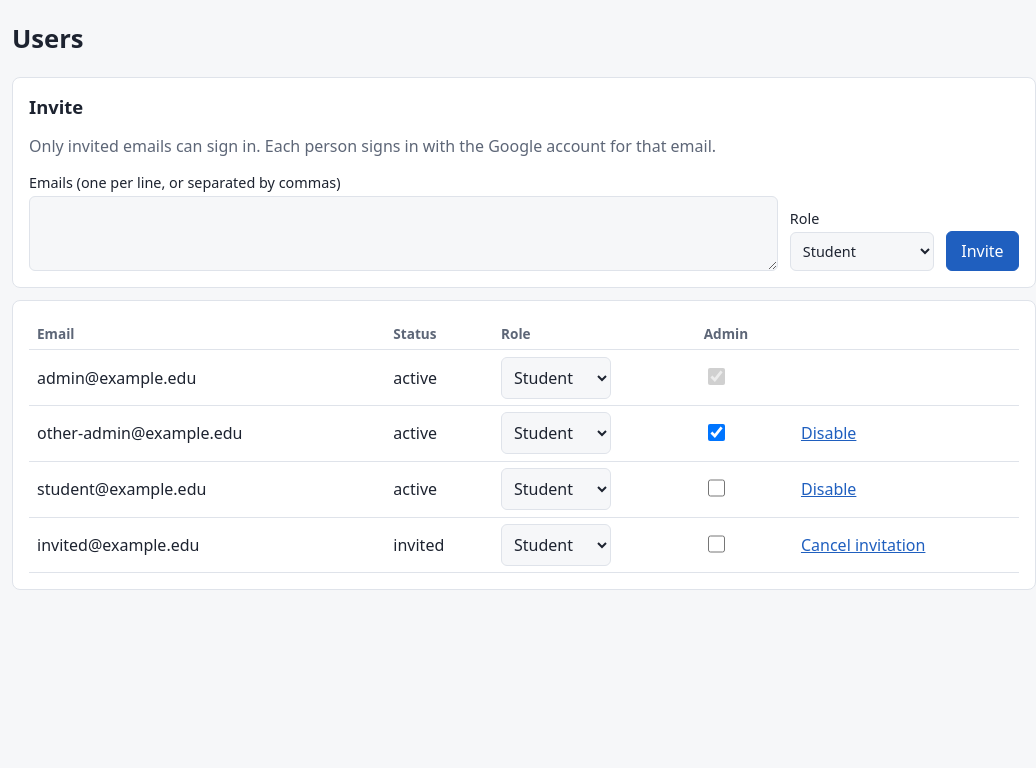
<AdminPage> › invites a pasted list of emails with the chosen role
Type "new@example.edu, student@example.edu" into the text box labelled "Emails (one per line, or separated by commas)" at (403, 234), box left=29, top=196, right=778, bottom=272
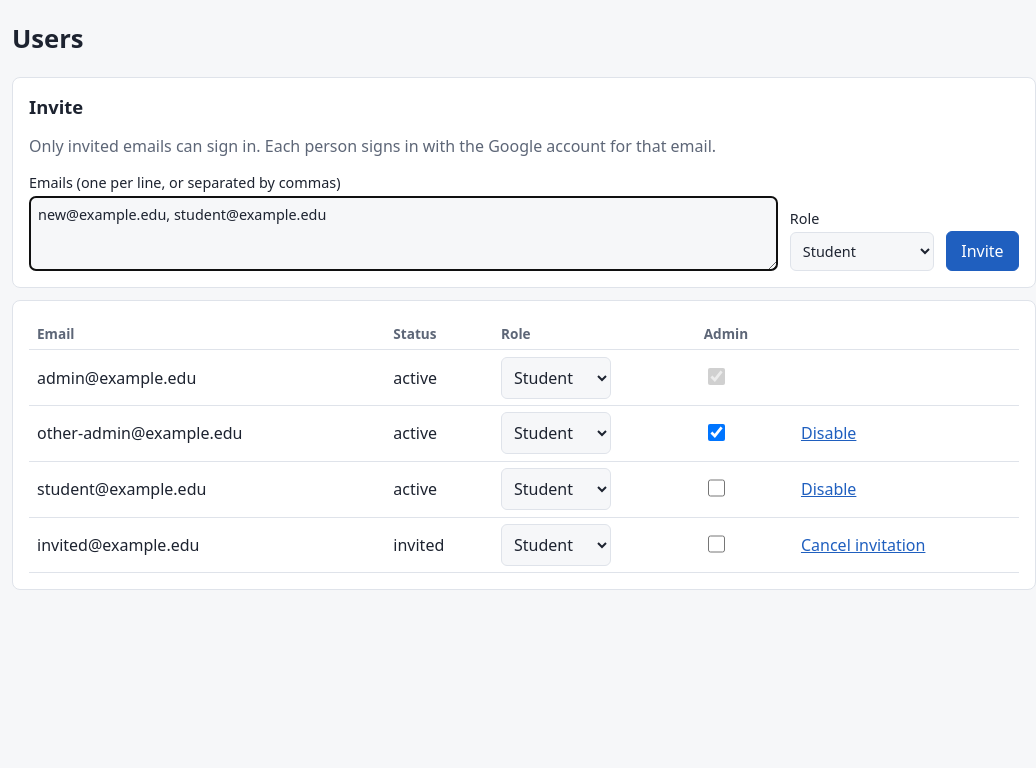
Select "Professor" in the dropdown labelled "Role" at (862, 252), box left=790, top=232, right=934, bottom=272
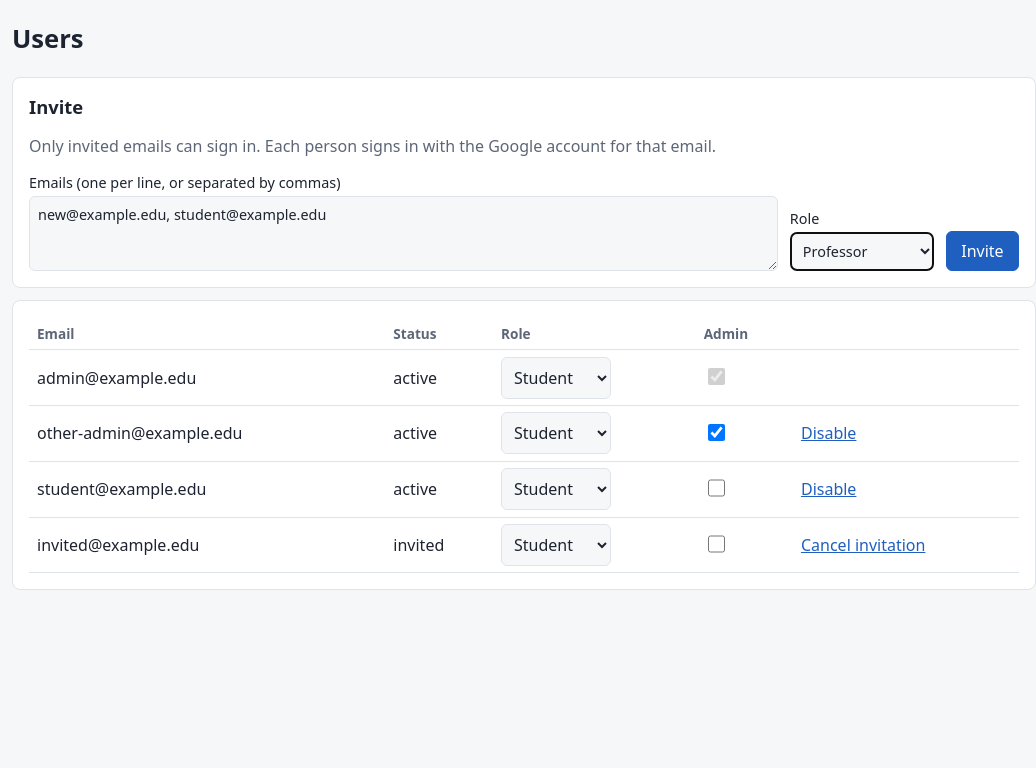
Click the button "Invite" at (982, 252), box left=946, top=232, right=1019, bottom=272
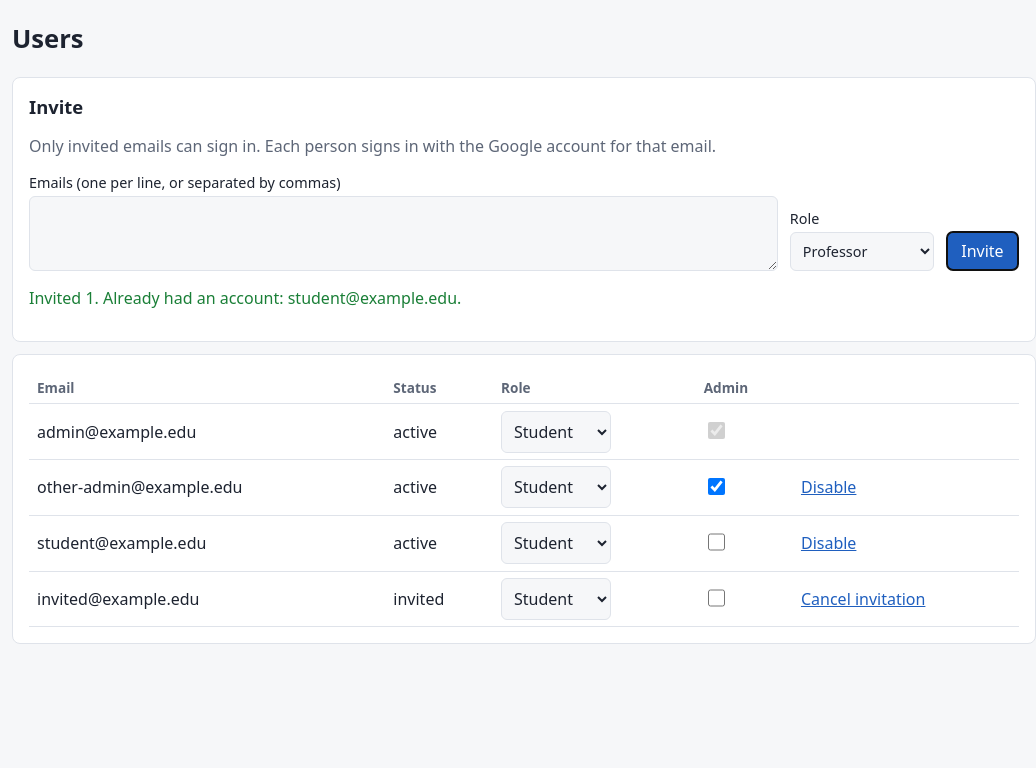
Expected: the message reads "Invited 1. Already had an account: student@example.edu.", left=29, top=288, right=461, bottom=310
